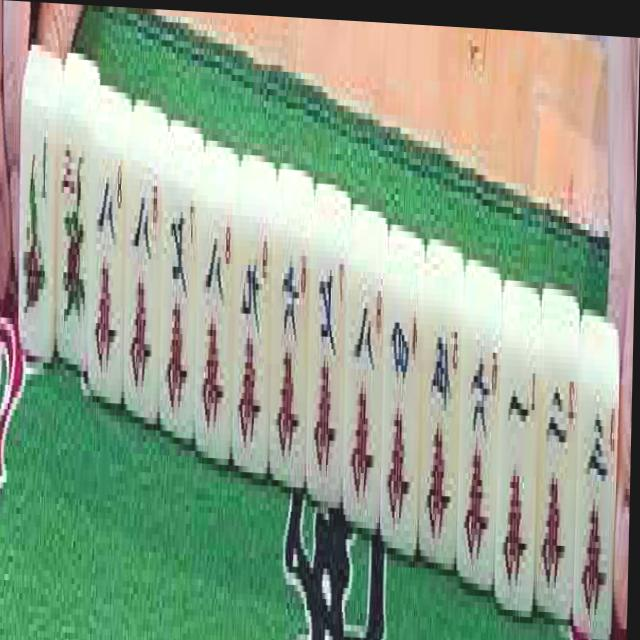f1: (19, 100, 56, 349)
ff3: (54, 85, 91, 381)
m1: (495, 336, 540, 607)
m2: (535, 344, 579, 611)
m3: (578, 331, 620, 628)
m4: (382, 269, 424, 534)
m5: (419, 272, 461, 557)
m6: (268, 179, 308, 481), (458, 331, 502, 577)
m7: (308, 191, 347, 492), (162, 153, 198, 428)
m8: (342, 218, 385, 515), (193, 167, 233, 460), (91, 106, 127, 396), (123, 156, 160, 412)
m9: (233, 173, 273, 471)
